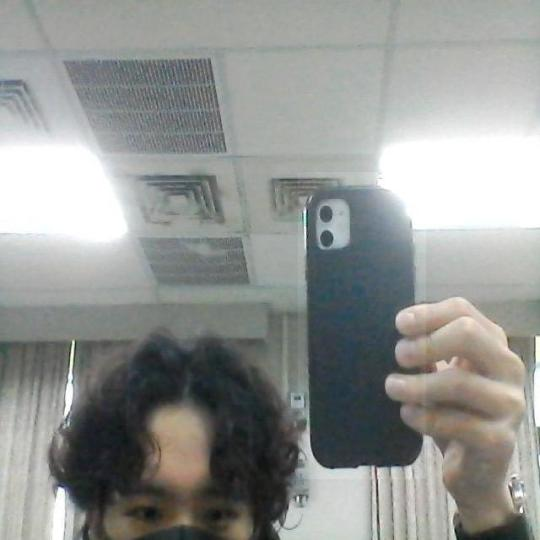phone: (295, 184, 440, 474)
